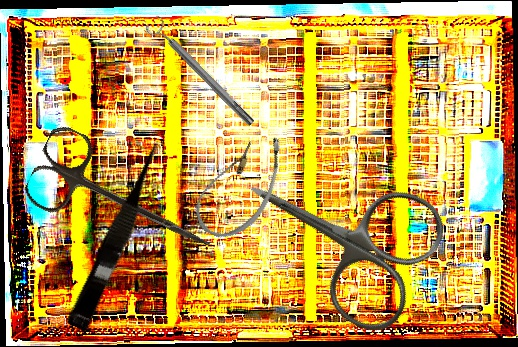Cannula: (186, 118, 295, 251)
Fixation Ring: (142, 12, 260, 133)
Iris Scissors: (215, 122, 457, 344), (19, 121, 230, 280)
Micro Scissor: (65, 136, 175, 334)
